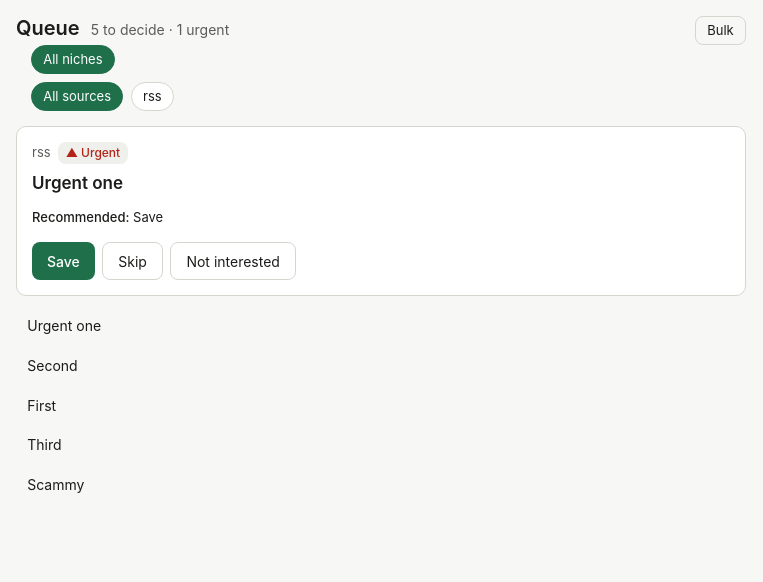
bulk mode › the header toggle enters bulk mode and Escape leaves it
The width and height of the screenshot is (763, 582).
Expected: the heading "Urgent one" is shown, [32,173,123,193]
Click the button "Bulk" at (720, 31), box [695,16,746,45]
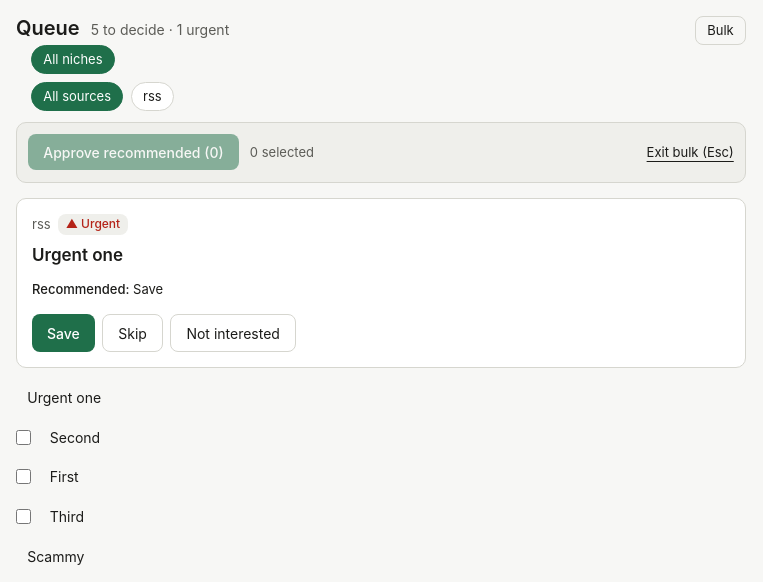
Result: the checkbox named "Select Second" is shown at [16,430,31,444]
Press Escape
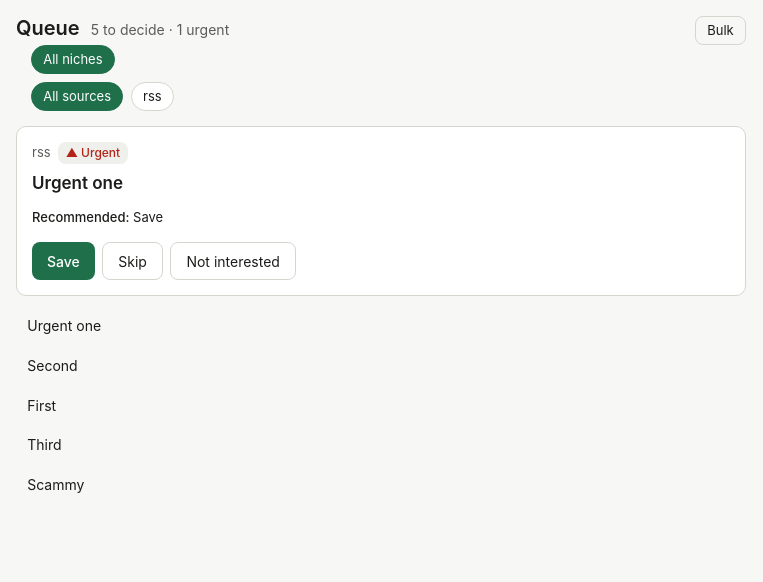
Result: no checkboxes are shown
Result: the button "Approve recommended" is gone
